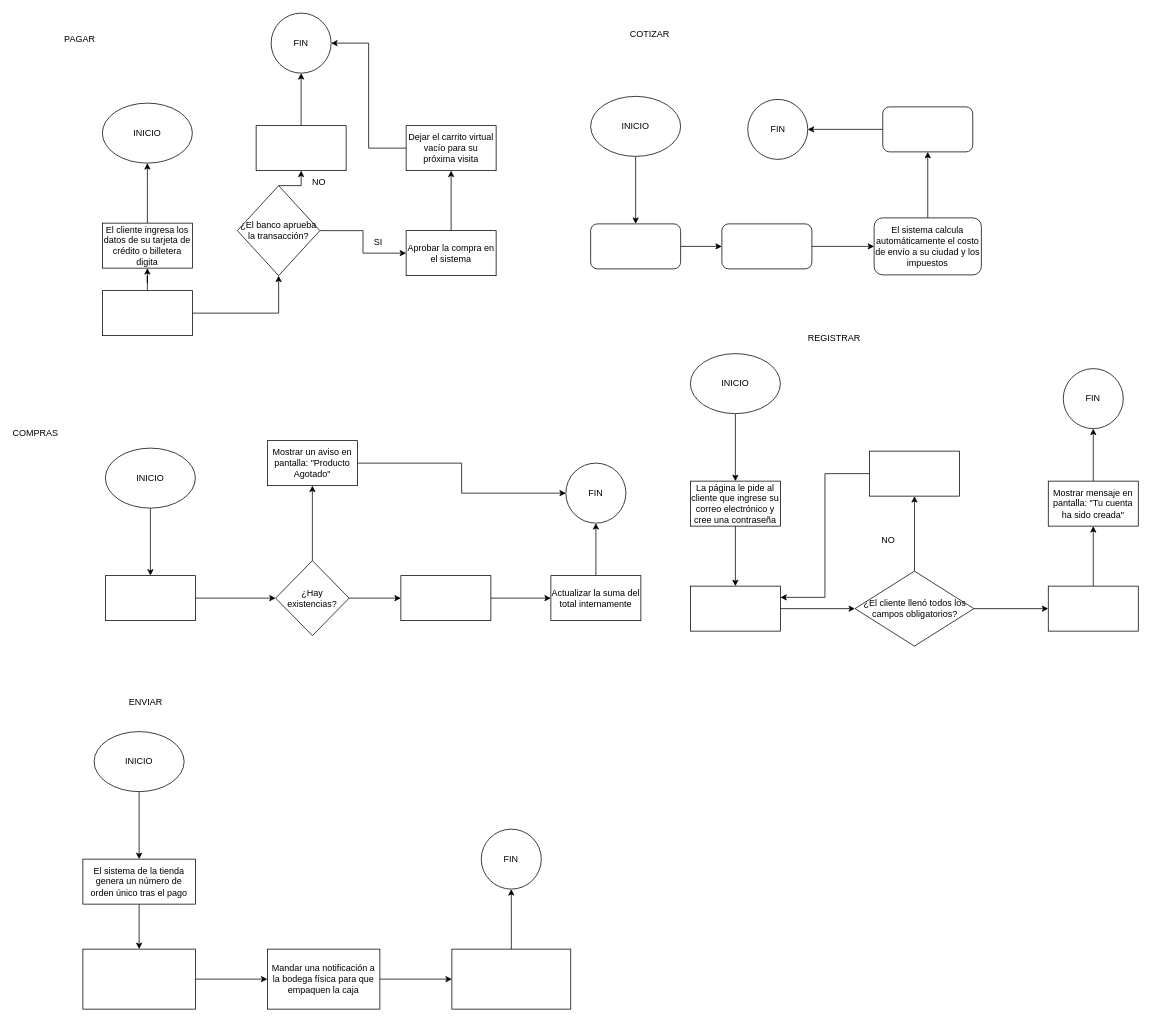
Image size: 1152x1022. Some labels were removed from this diagram. The shapes that lost their labels are listed below. From the top down, each one's centre as x and y in pixels, then its label:
pixel 300 148: Mostrar alerta en la pantalla: "Tarjeta rechazada, intenta con otro método"
pixel 927 129: Mostrar en pantalla el "Total a Pagar" desglosado
pixel 635 246: El cliente hace clic en el icono del carrito para ver lo que lleva
pixel 766 246: La página suma el precio de todos los artículos agregados
pixel 147 313: La tienda web se conecta de forma segura con el banco por internet
pixel 914 473: Marcar en rojo las casillas que faltan
pixel 150 598: Agregar al carrito
pixel 445 598: El icono del carrito en la esquina de la pantalla suma un artículo
pixel 735 608: El cliente llena el formulario con su dirección de entrega exacta
pixel 1093 608: Guardar el perfil del usuario en la base de datos de la tienda
pixel 138 978: Enviar automáticamente un correo electrónico al cliente con su recibo digitaL
pixel 511 978: Generar un enlace web de rastreo para que el cliente vea dónde viene su paquete
